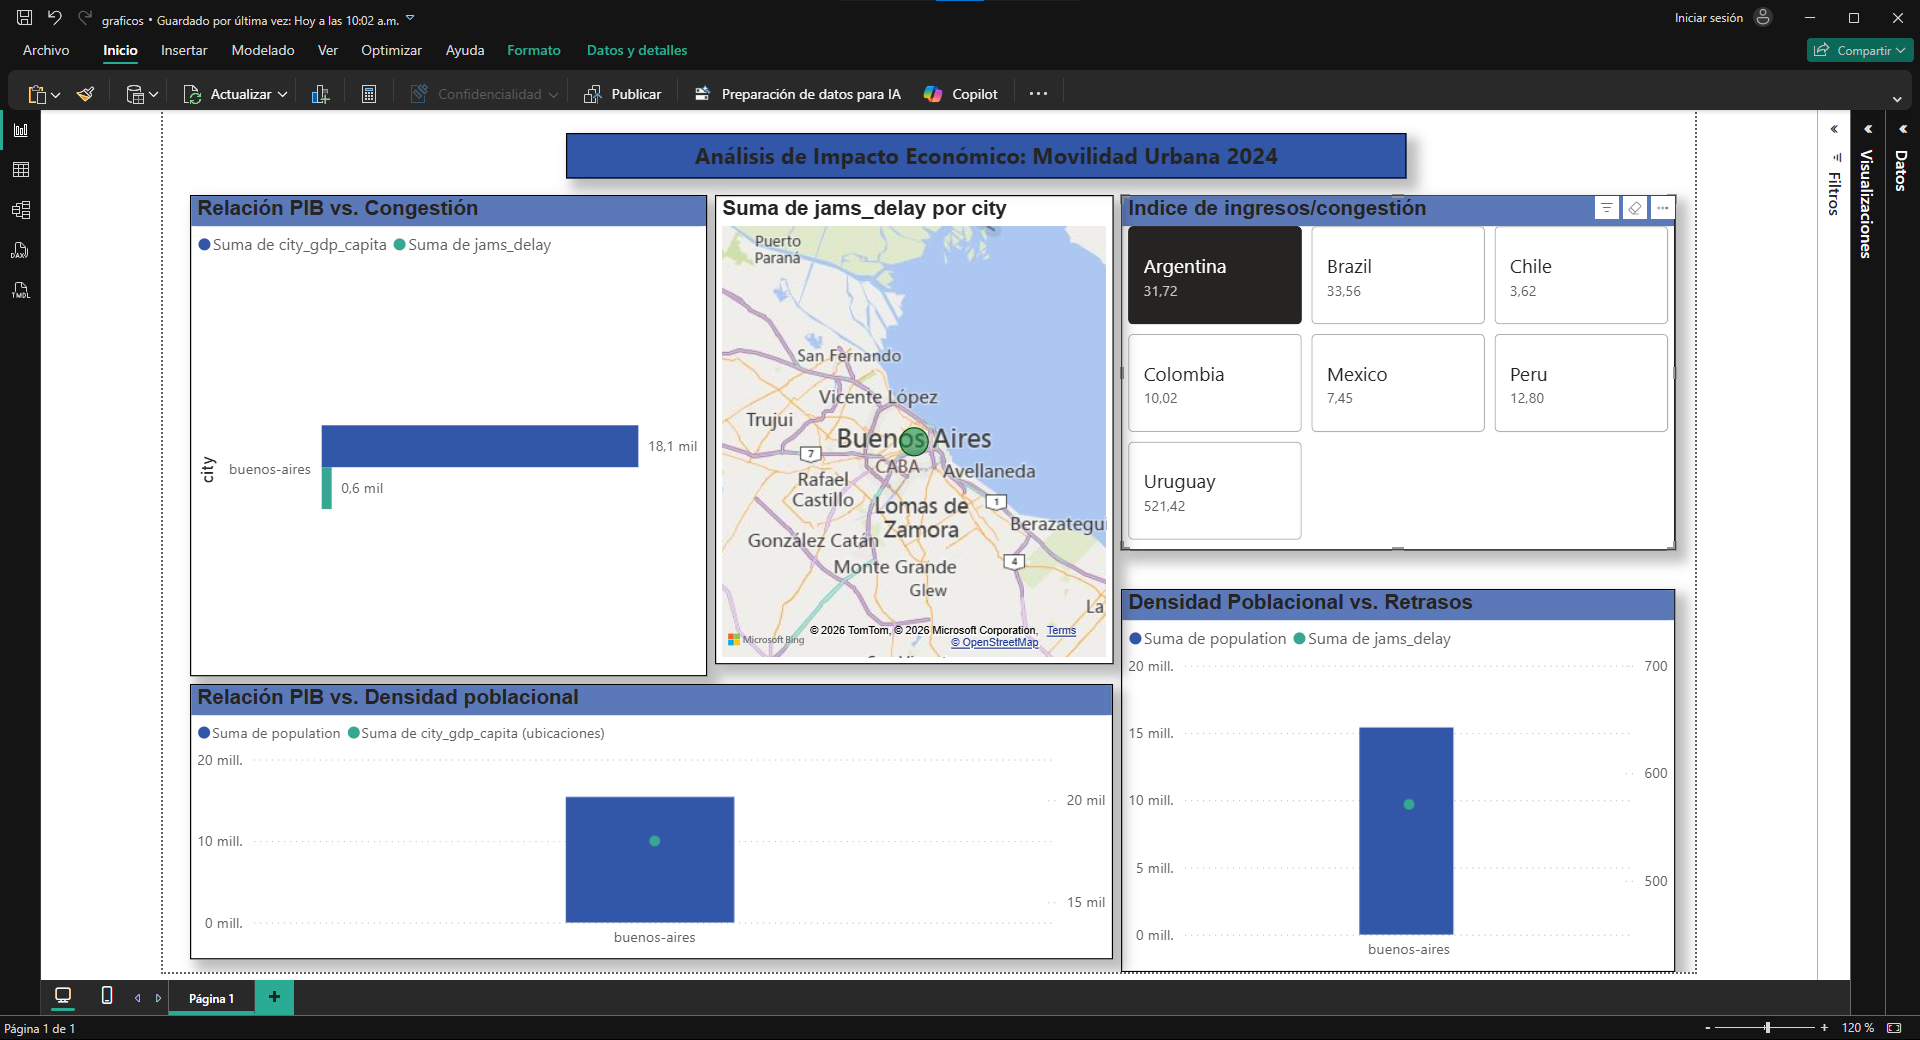

This screenshot's page, from the dashboard's own definition file:
{"tool":"powerbi","page":{"name":"Página 1","canvas":[1280,720],"ordinal":0},"visuals":[{"type":"clusteredBarChart","title":"Relación PIB vs. Congestión","fields":{"Category":["movilidad_economica_final.city"],"Y":["Sum(movilidad_economica_final.city_gdp_capita)","Sum(movilidad_economica_final.jams_delay)"]},"box":[22.4,70.7,432.1,401.9],"z":0},{"type":"lineStackedColumnComboChart","title":"Densidad Poblacional vs. Retrasos","fields":{"Category":["movilidad_economica_final.city"],"Y":["Sum(movilidad_economica_final.population)"],"Y2":["Sum(movilidad_economica_final.jams_delay)"]},"box":[800.4,400.2,463.2,320],"z":1000},{"type":"lineStackedColumnComboChart","title":"Relación PIB vs. Densidad poblacional","fields":{"Category":["movilidad_economica_final.city"],"Y2":["Sum(movilidad_economica_final.city_gdp_capita (ubicaciones))"],"Y":["Sum(movilidad_economica_final.population)"]},"box":[22.8,479.8,771.3,230.3],"z":2000},{"type":"advancedSlicerVisual","title":"Indice de ingresos/congestión","fields":{"Values":["movilidad_economica_final.country"],"Label":["movilidad_economica_final.indice_eficiencia"]},"box":[800.2,70.9,463.1,296.8],"z":3000},{"type":"map","fields":{"Category":["movilidad_economica_final.city"],"Size":["Sum(movilidad_economica_final.jams_delay)"]},"box":[461.4,70.9,332.7,392.2],"z":4000},{"type":"textbox","title":"Análisis de Impacto Económico: Movilidad Urbana 2024","box":[336.6,19.2,702.5,37.6],"z":5000}]}

Visuals, with their boxes on the page's 1280x720 design canvas (x1, y1, x2, y2). These are canvas units, not pixel positions in the 1920x1040 screenshot, which may show the page scaled, cropped or inside an application window:
"Relación PIB vs. Congestión" clusteredBarChart: l=22, t=71, r=454, b=473
"Densidad Poblacional vs. Retrasos" lineStackedColumnComboChart: l=800, t=400, r=1264, b=720
"Relación PIB vs. Densidad poblacional" lineStackedColumnComboChart: l=23, t=480, r=794, b=710
"Indice de ingresos/congestión" advancedSlicerVisual: l=800, t=71, r=1263, b=368
map - movilidad_economica_final.city x Sum(movilidad_economica_final.jams_delay): l=461, t=71, r=794, b=463
"Análisis de Impacto Económico: Movilidad Urbana 2024" textbox: l=337, t=19, r=1039, b=57
